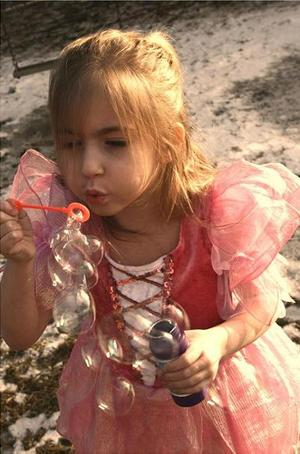person: (1, 25, 299, 453)
